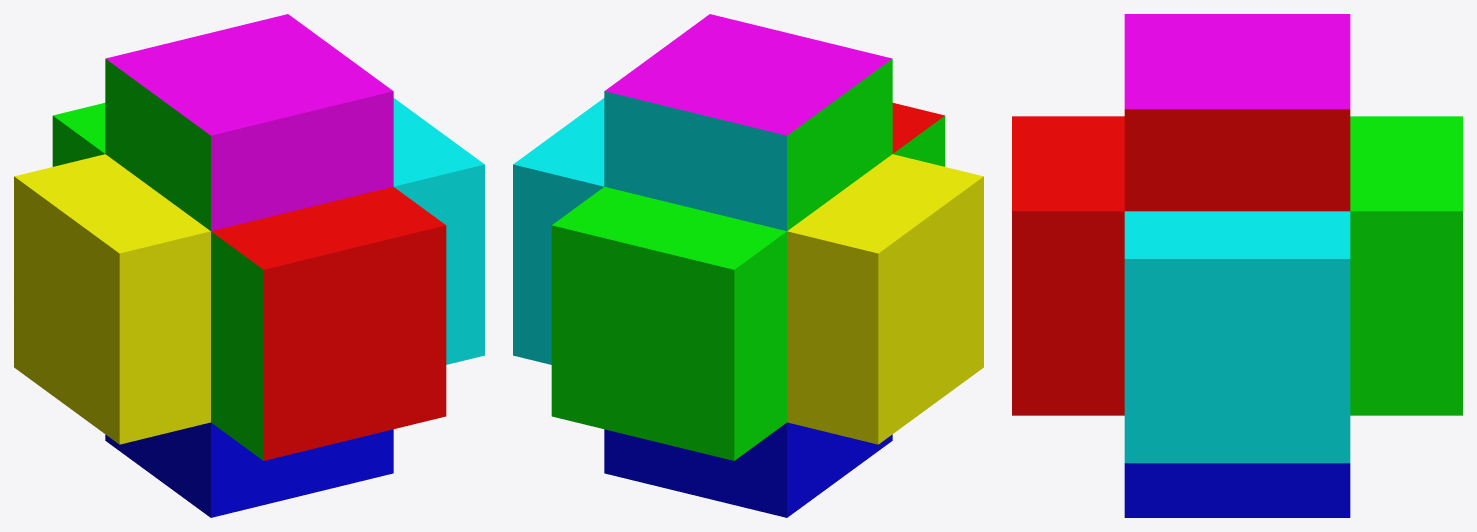
File: flowerbox.obj
3 renders of one model, left to right at view 1: azimuth 30°, elevation 25°; view 2: azimuth 150°, elevation 25°; view 3: azimuth 270°, elevation 25°, orthographic. The views are drawn at different scales.
Visible parts, largest first — view 1: polySurface5; view 2: polySurface5; view 3: polySurface5.
Part boxes in pixels (<box>): polySurface5: <box>14,14,484,517</box>; polySurface5: <box>513,14,983,517</box>; polySurface5: <box>1012,14,1462,517</box>.
Bounding box in the file's own units: 4 × 4 × 4.
